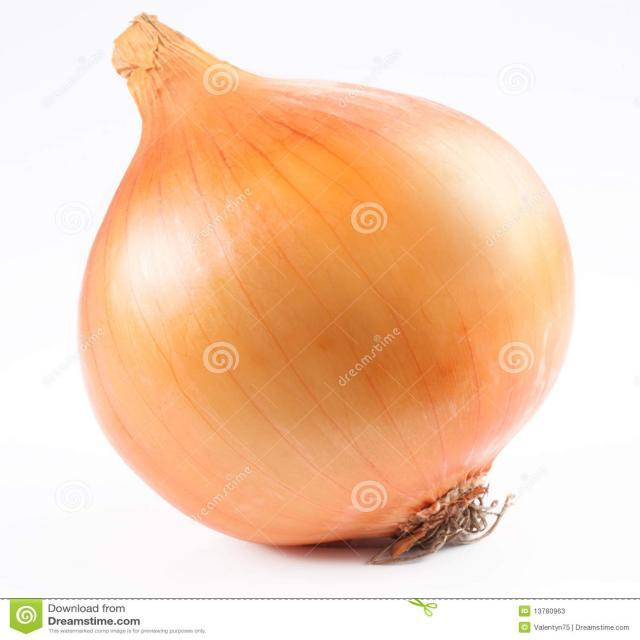onion: (73, 16, 579, 555)
